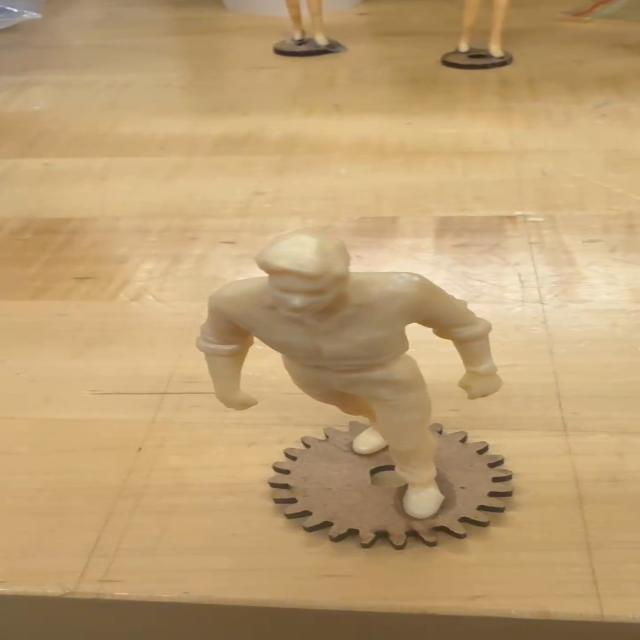Unauthorized: (162, 222, 555, 524)
